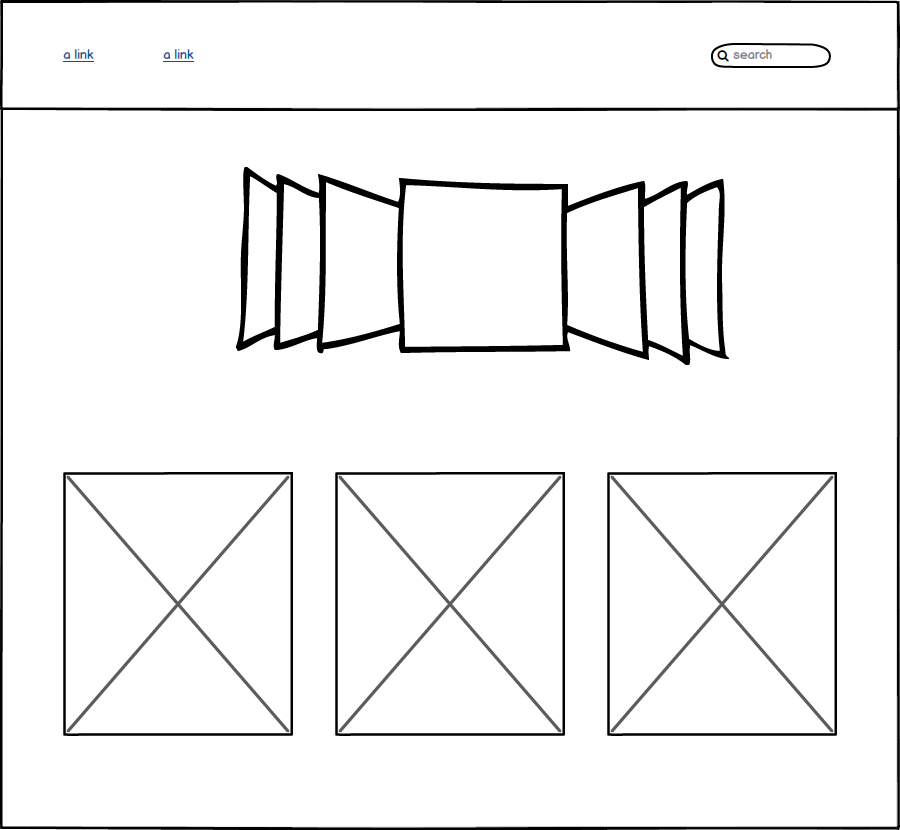image: (330, 468, 573, 744), (58, 464, 299, 742), (604, 468, 842, 740)
navlink: (155, 43, 207, 73), (55, 42, 102, 73)
search: (704, 35, 837, 73)
slideshow: (222, 159, 739, 376)
